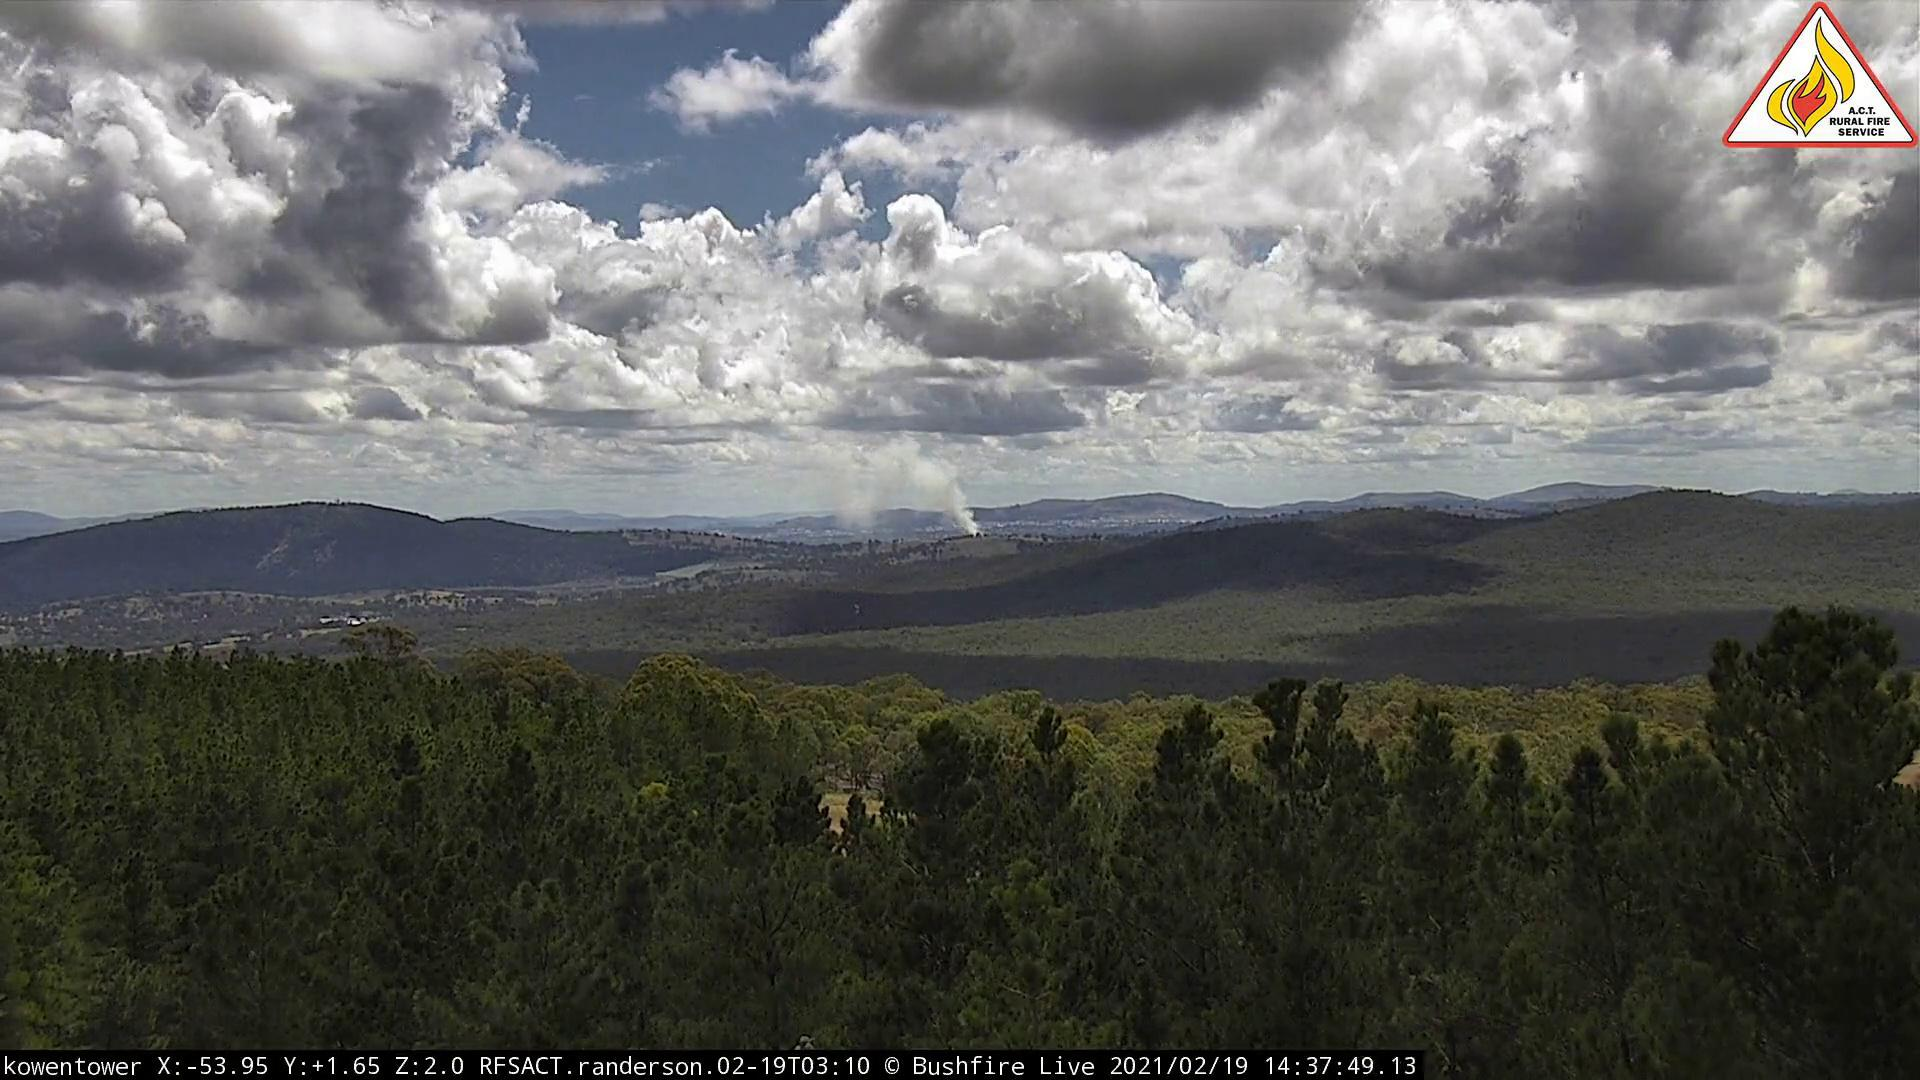Smoke: (789, 433, 992, 545)
